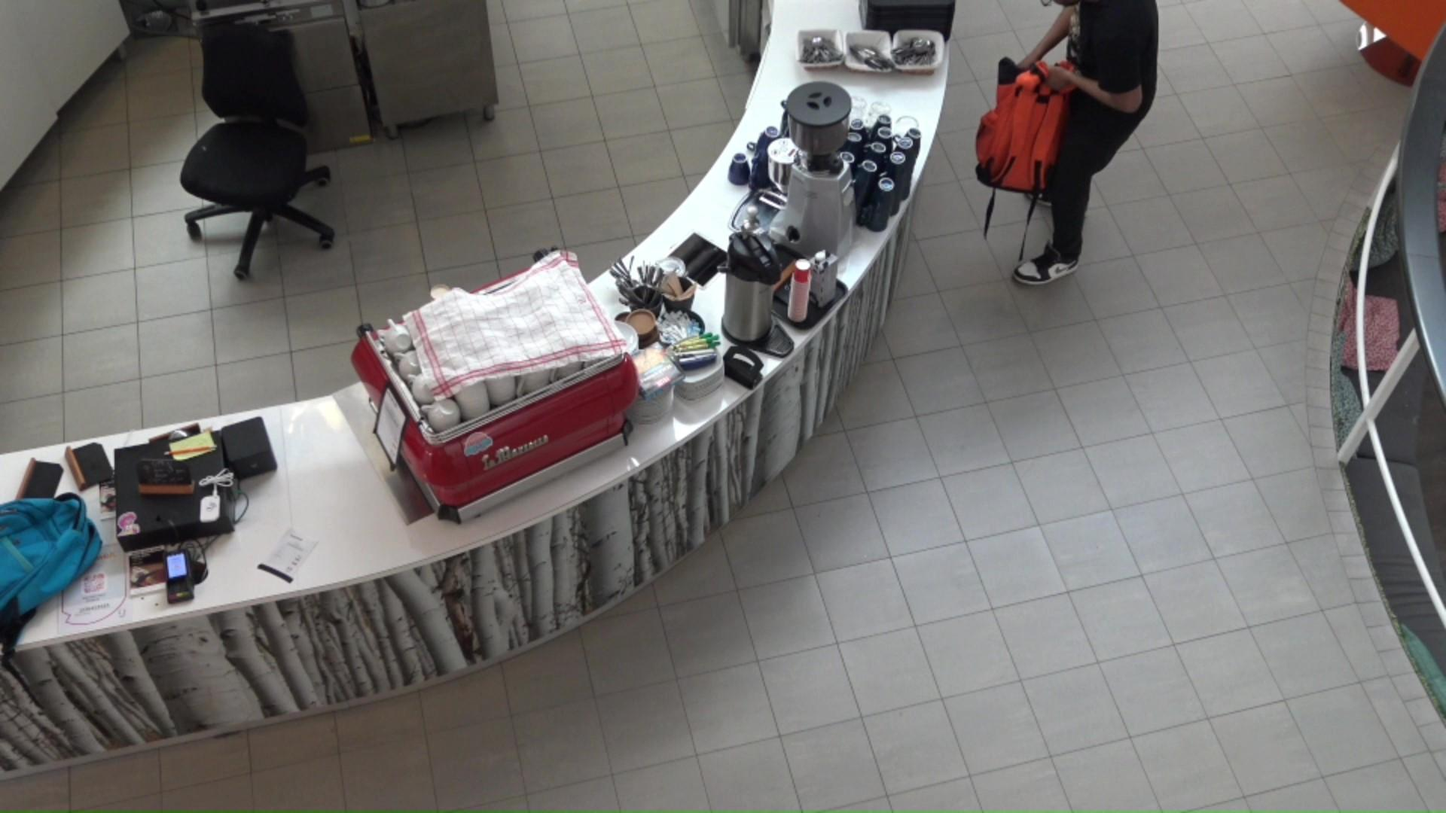shoplifting: (979, 0, 1158, 286)
